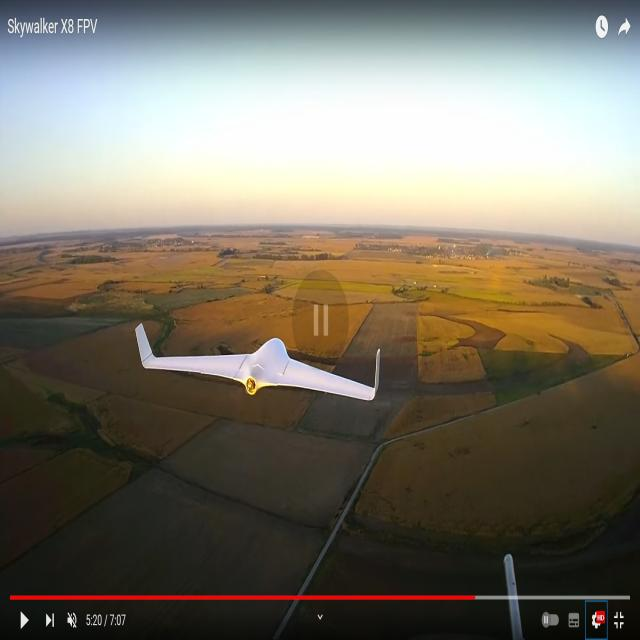iha: (131, 340, 379, 374)
